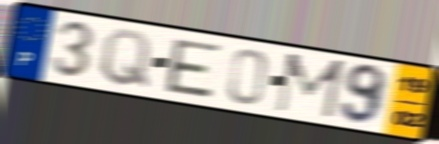0: (225, 47, 270, 106)
3: (49, 19, 98, 81)
9: (340, 62, 391, 128)
E: (164, 37, 224, 101)
M: (272, 51, 348, 122)
Q: (98, 27, 153, 91)
